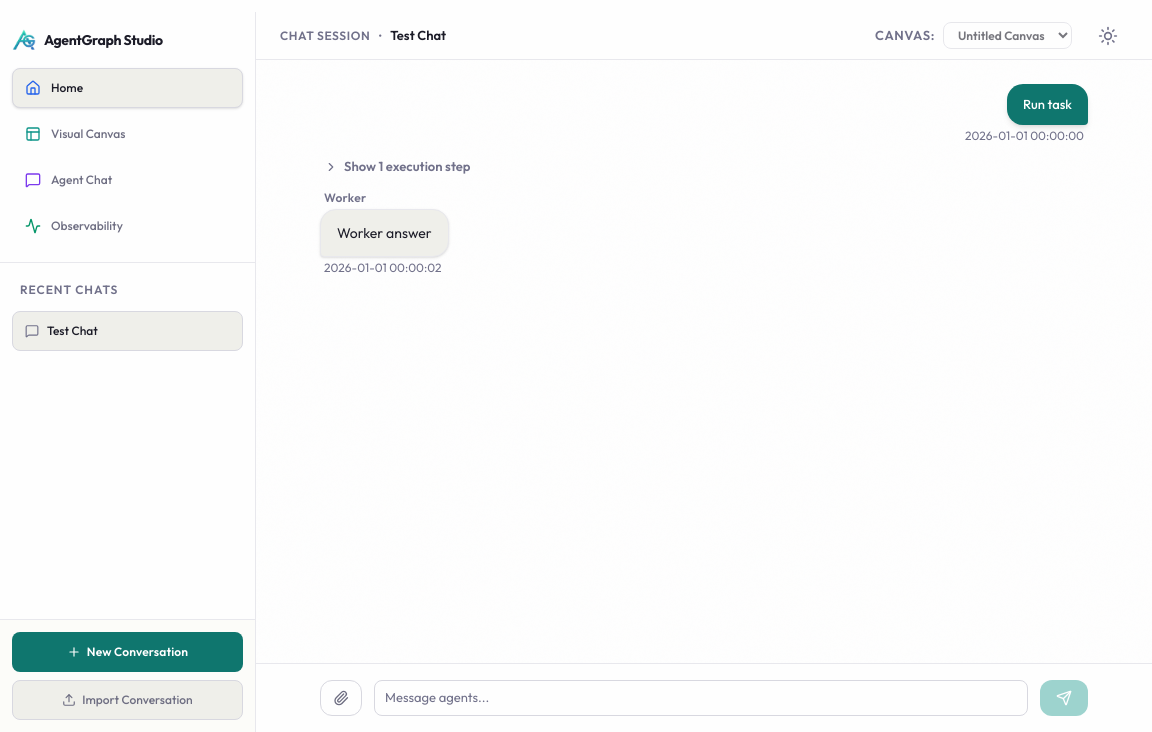
ChatPage component › collapses and expands individual steps on click
expect the text "Worker answer" is shown: met, box [337,222,432,244]
// Expand execution steps
Click the button "Show 1 execution step".
click(397, 167)  # box [320,157,474,177]
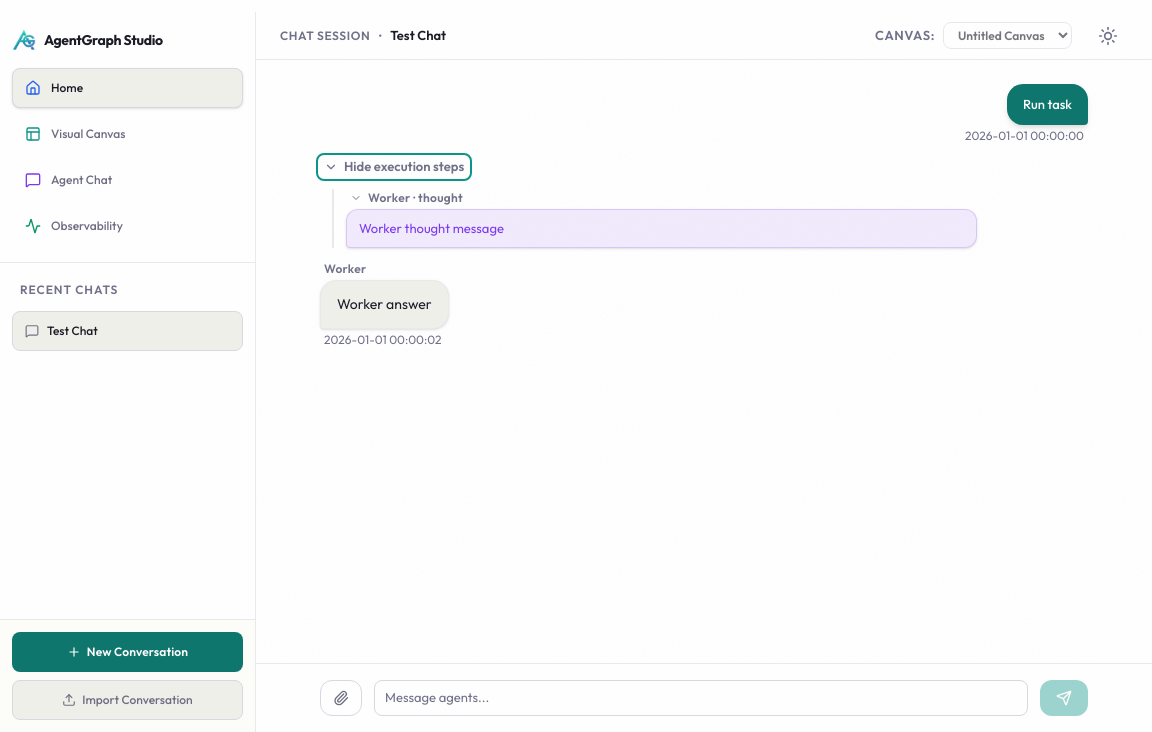
expect the text "Worker thought message" is shown: met, box [359,220,504,236]
expect the text "Worker · thought" is shown: met, box [368,189,463,207]
// Click it to collapse
Click the button "Worker · thought".
click(406, 198)  # box [346,189,467,207]
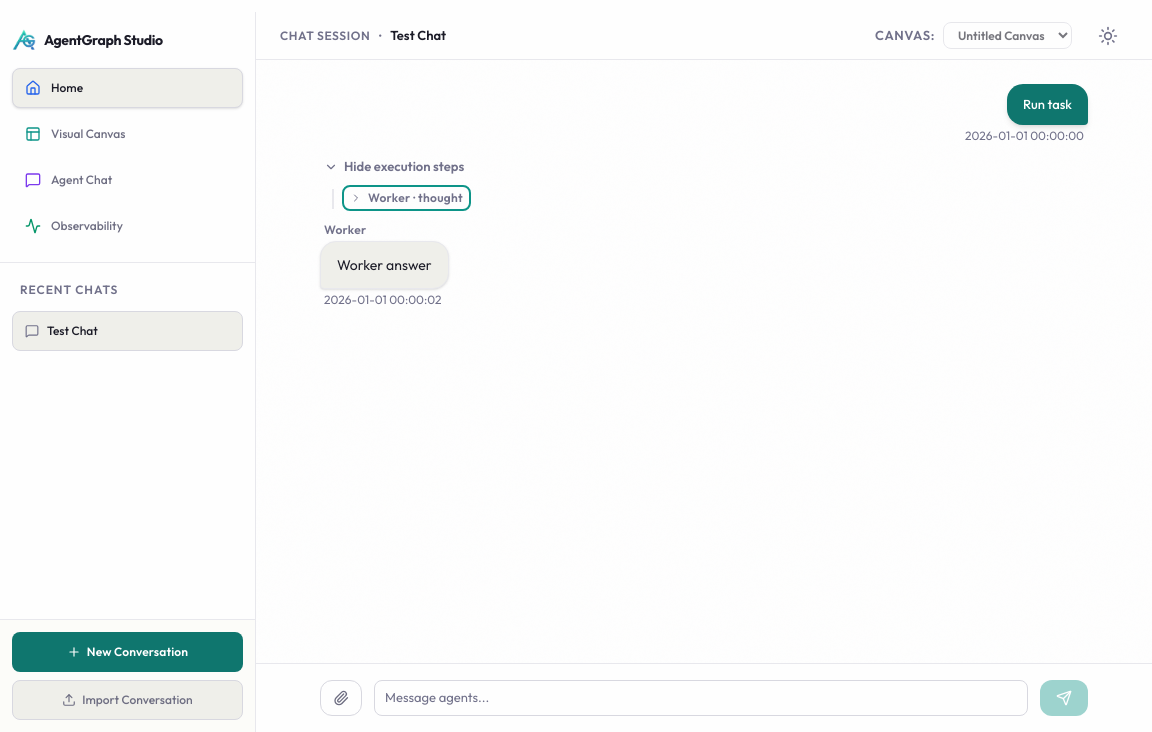
expect the text "Worker thought message" is gone: met
// Click it again to expand
Click the button "Worker · thought".
click(406, 198)  # box [346,189,467,207]
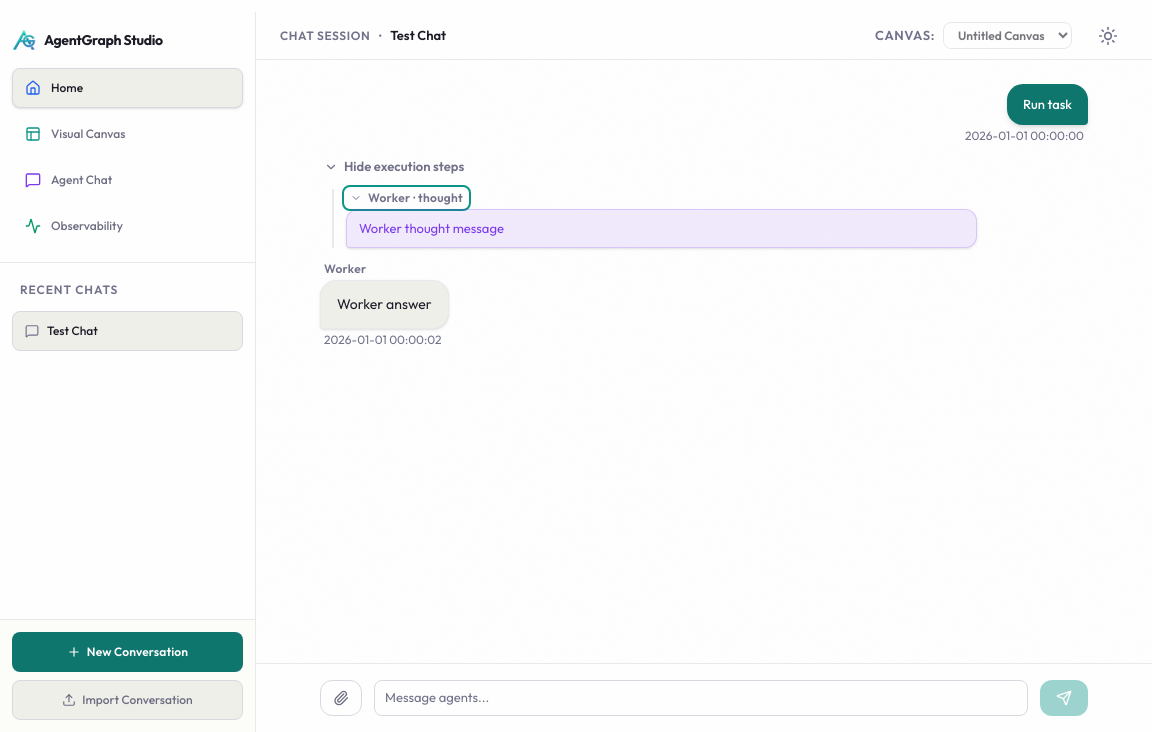
expect the text "Worker thought message" is shown: met, box [359,220,504,236]
